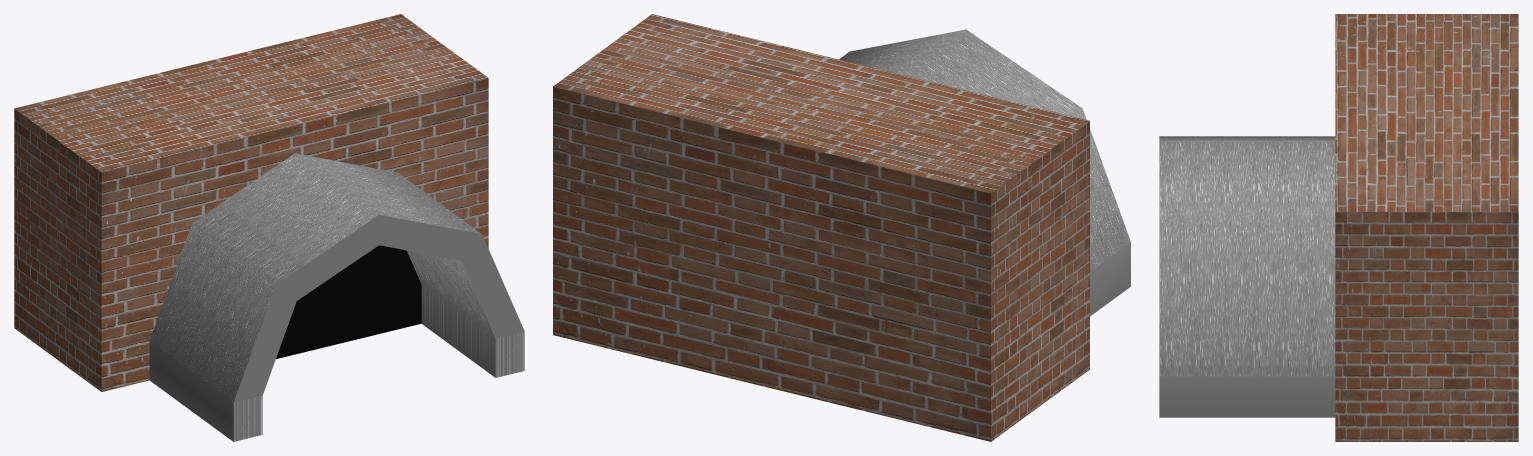
File: tunnel.fbx
3 views of the same model, side by side, from view 1: azimuth 30°, elevation 25°; view 2: azimuth 150°, elevation 25°; view 3: azimuth 270°, elevation 25° (orthographic). The views are drawn at different scales.
Parts seen in each view (by area): view 1: tunnel; view 2: tunnel; view 3: tunnel.
Part boxes in pixels (<box>): tunnel: <box>14,14,524,441</box>; tunnel: <box>553,14,1130,441</box>; tunnel: <box>1159,14,1518,441</box>.
Bounding box in the file's own units: 266 × 144 × 204.
